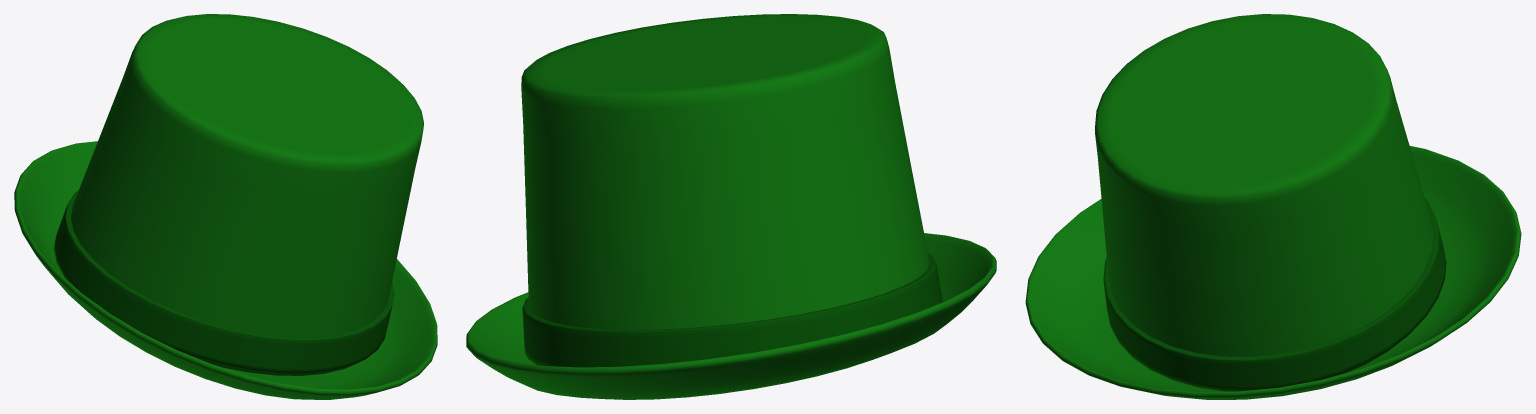
File: Hat_top_hat.FBX
The picture shows the model from 3 angles, left to right: view 1: azimuth 30°, elevation 25°; view 2: azimuth 150°, elevation 25°; view 3: azimuth 270°, elevation 25°; orthographic projection. The views are drawn at different scales.
Visible parts, largest first — view 1: Hat_top_hat; view 2: Hat_top_hat; view 3: Hat_top_hat.
Part boxes in pixels (left/top/right/bottom): Hat_top_hat: left=14, top=14, right=437, bottom=399; Hat_top_hat: left=466, top=14, right=996, bottom=399; Hat_top_hat: left=1025, top=14, right=1521, bottom=399.
Bounding box in the file's own units: 42.91 × 33.87 × 52.8.
